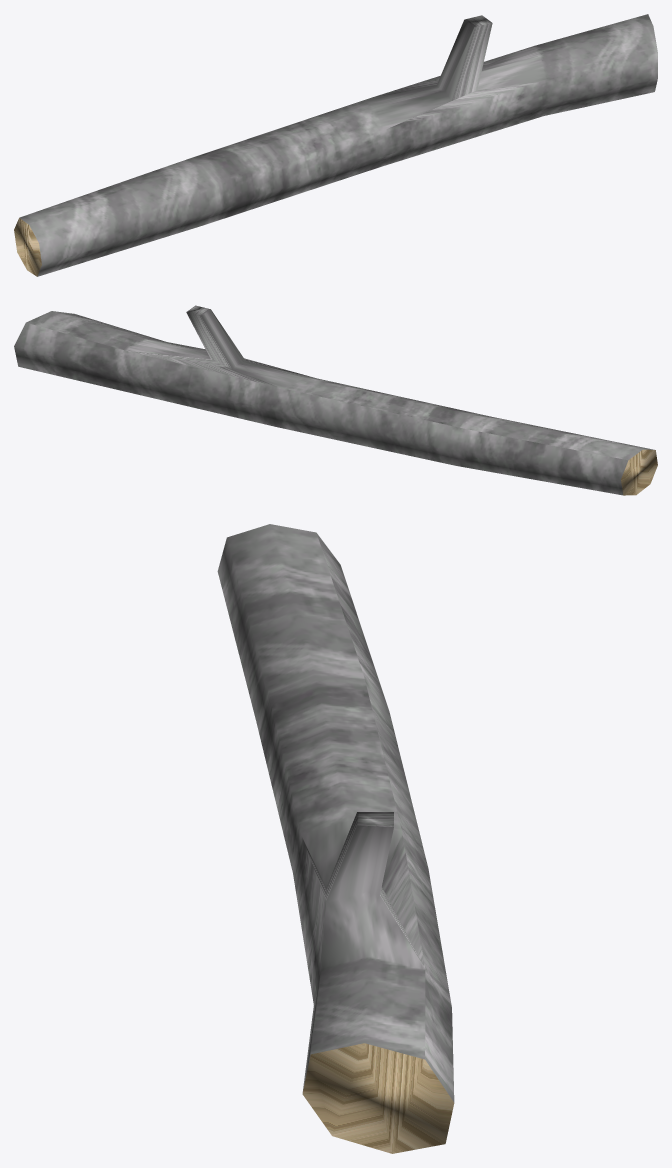
The model's file is MangroveStick.fbx.
3 views of the same model, one above another, from view 1: azimuth 30°, elevation 25°; view 2: azimuth 150°, elevation 25°; view 3: azimuth 270°, elevation 25° (orthographic). The views are drawn at different scales.
Visible parts, largest first — view 1: WoodStack; view 2: WoodStack; view 3: WoodStack.
Part boxes in pixels (box(x1,y1,x2,y2)): WoodStack: box(14, 14, 657, 276); WoodStack: box(14, 305, 657, 495); WoodStack: box(217, 524, 454, 1153).
Size of the model in its own units: 1.26 by 0.2058 by 0.2208.
